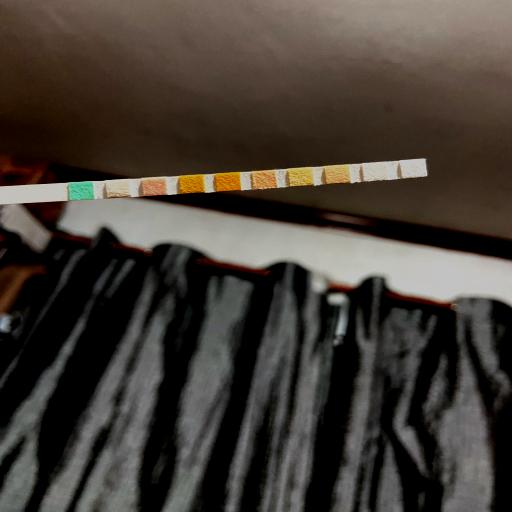Bilirubin: (106, 181, 130, 197)
Blood: (218, 174, 240, 190)
Glucose: (70, 183, 94, 199)
Ketone: (144, 179, 168, 195)
Leukocytes: (402, 160, 425, 176)
Nitrite: (364, 164, 386, 180)
Protein: (290, 169, 312, 185)
SpGravity: (181, 176, 203, 192)
Urobilinogen: (326, 166, 348, 182)
pH: (253, 172, 275, 188)
strip: (1, 159, 428, 205)
